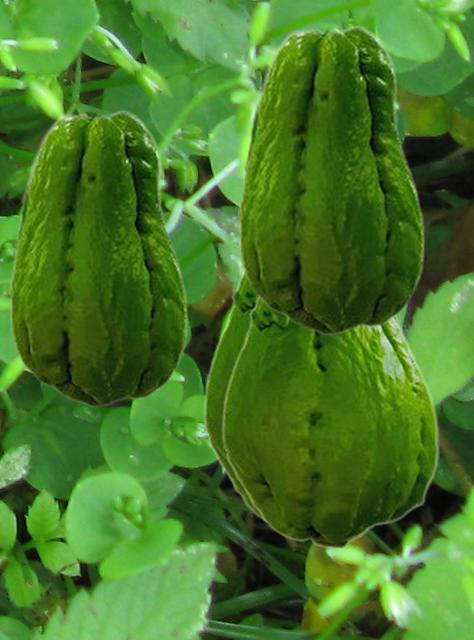sayote: (238, 24, 424, 335), (221, 294, 439, 549), (9, 109, 187, 407), (203, 267, 265, 524)
